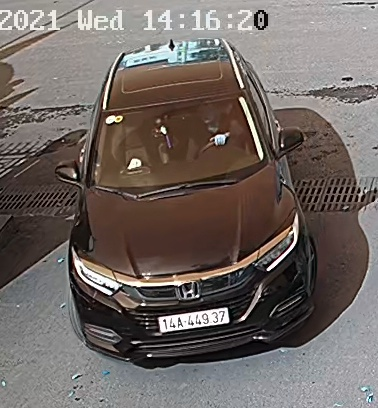vehicle plate: (150, 304, 235, 333)
